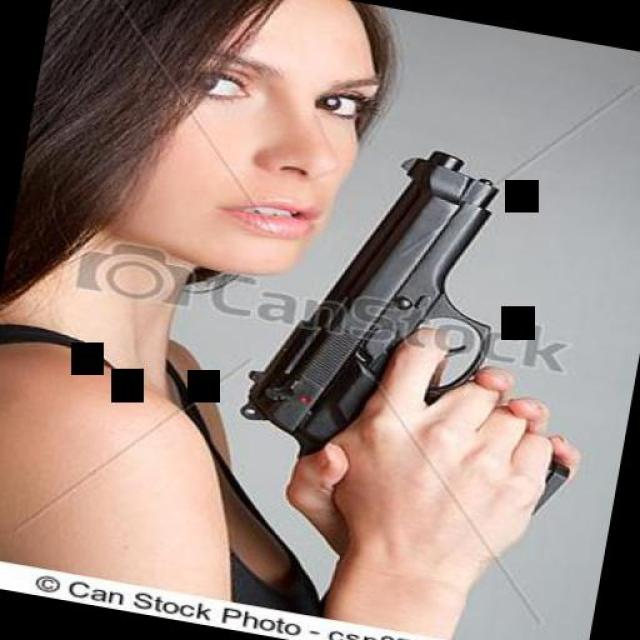gun: (229, 117, 621, 528)
